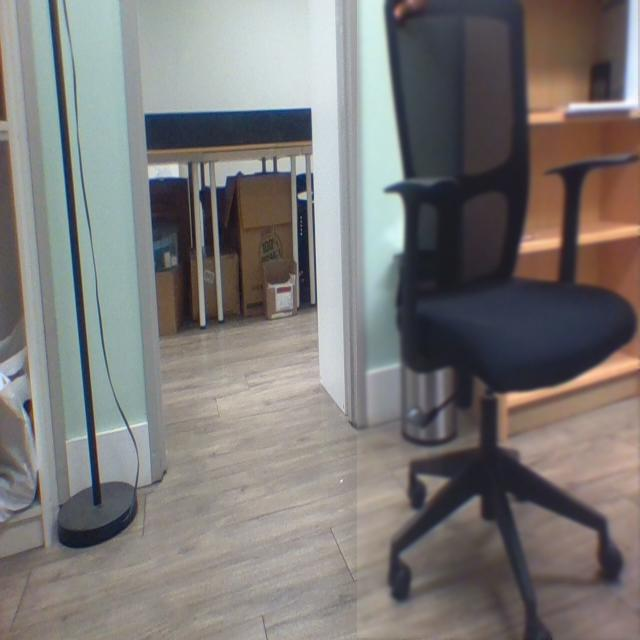black-chair: (357, 0, 639, 639)
